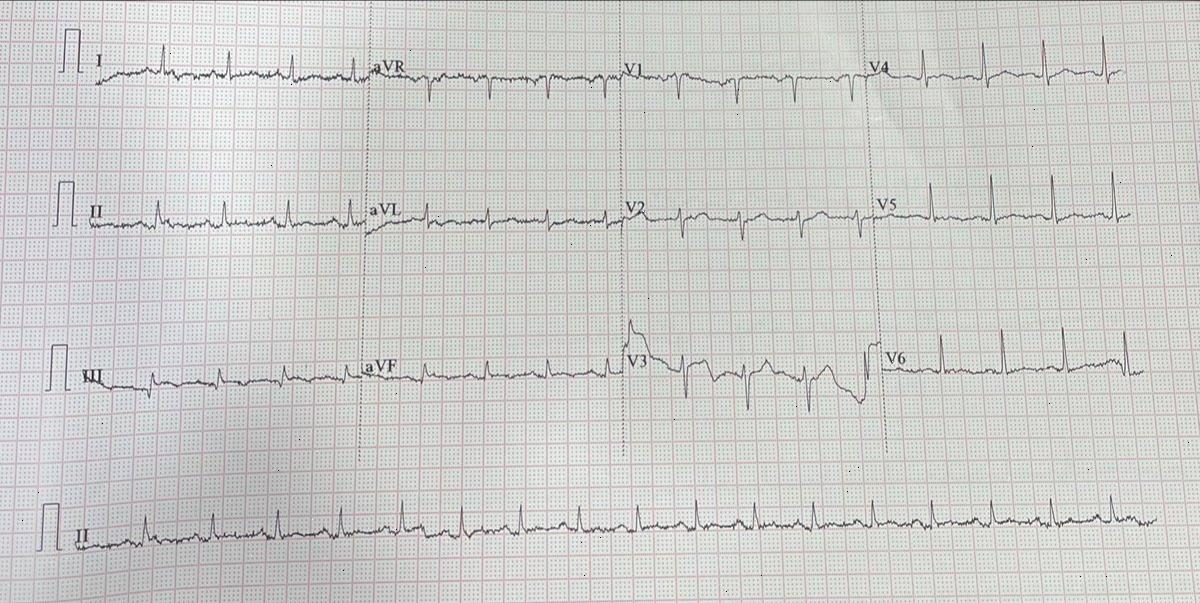Lead_I: (85, 29, 370, 103)
Lead_II: (82, 182, 368, 256)
Lead_III: (74, 346, 364, 400)
Lead_II_ext: (69, 489, 1172, 566)
Lead_V1: (618, 45, 867, 118)
Lead_V2: (623, 178, 872, 257)
Lead_V3: (624, 301, 882, 423)
Lead_V4: (868, 26, 1132, 110)
Lead_V5: (874, 156, 1132, 250)
Lead_V6: (881, 309, 1154, 396)
Lead_aVF: (360, 340, 625, 411)
Lead_aVL: (367, 181, 622, 254)
Lead_aVR: (370, 39, 624, 121)
